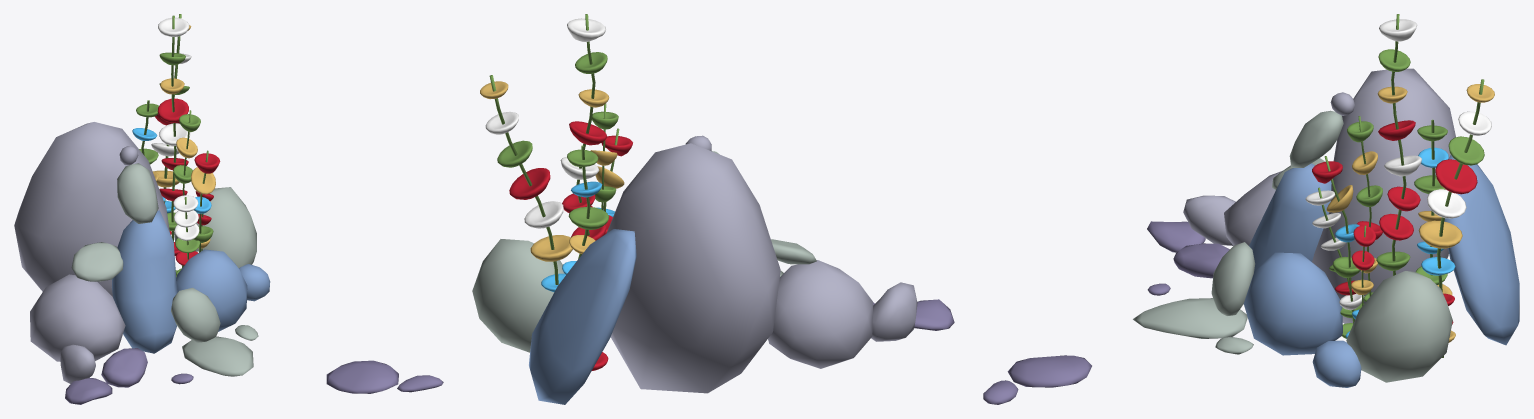
The model's file is rocks2.fbx.
The picture shows the model from 3 angles, left to right: view 1: azimuth 30°, elevation 25°; view 2: azimuth 150°, elevation 25°; view 3: azimuth 270°, elevation 25°; orthographic projection. The views are drawn at different scales.
Visible parts, largest first — view 1: Sand.002; view 2: Sand.002; view 3: Sand.002.
Part boxes in pixels (<box>): Sand.002: <box>14,14,443,404</box>; Sand.002: <box>472,14,954,404</box>; Sand.002: <box>983,14,1519,404</box>.
Bounding box in the file's own units: 832 × 751 × 1051.
